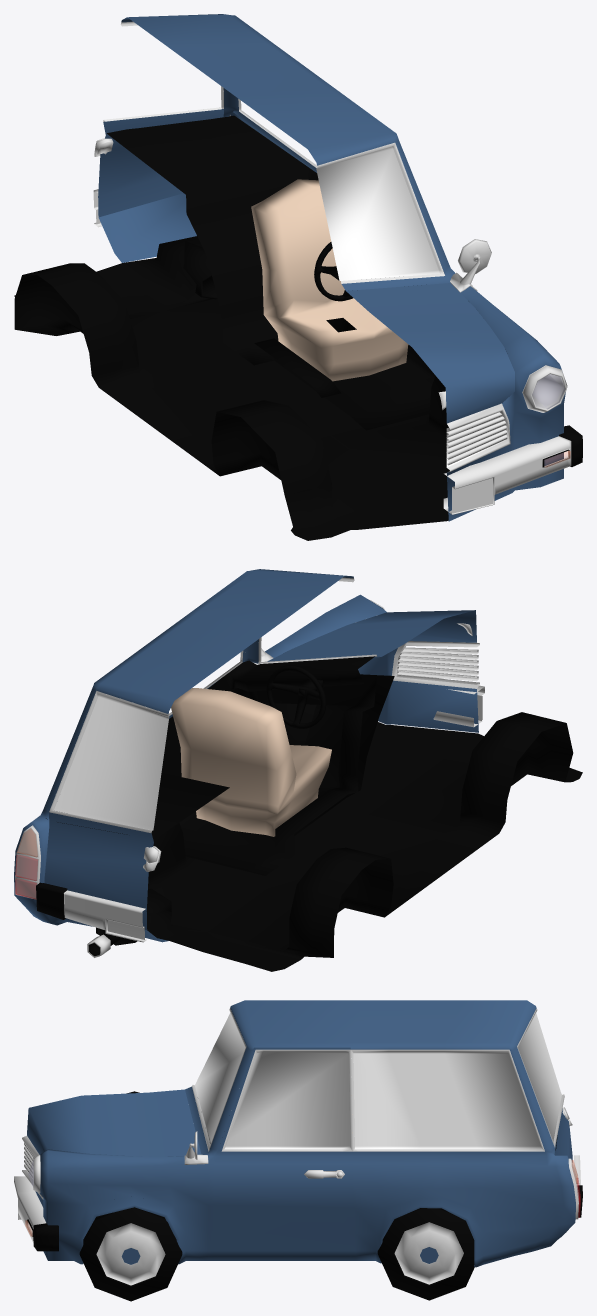
File: 89442db2-0201-4830-bda7-2f0d275e6abe.glb
3 views of the same model, one above another, from view 1: azimuth 30°, elevation 25°; view 2: azimuth 150°, elevation 25°; view 3: azimuth 270°, elevation 25° (orthographic). The views are drawn at different scales.
Visible parts, largest first — view 1: bottom, chasis, interior, seat, motor, door back, bomper front, radiadotr, mirror, smoke, plate fornt, light front; view 2: bottom, chasis, door back, interior, seat, motor, bumper back, radiadotr, sterring wheel, light back, smoke, bomper front; view 3: chasis, door side, motor, wheels, wheels.001, door back, bomper front, mirror.
Boxes of the visible parts, <box> form: bottom: <box>14,236,449,540</box>; chasis: <box>98,14,567,521</box>; interior: <box>107,115,435,430</box>; seat: <box>251,179,408,381</box>; motor: <box>346,283,514,423</box>; door back: <box>98,21,223,217</box>; bomper front: <box>443,425,582,514</box>; radiadotr: <box>446,412,507,465</box>; mirror: <box>450,239,491,292</box>; smoke: <box>183,241,217,299</box>; plate fornt: <box>452,478,492,513</box>; light front: <box>532,374,564,409</box>; bottom: <box>147,703,582,971</box>; chasis: <box>14,569,479,942</box>; door back: <box>44,691,169,929</box>; interior: <box>46,656,394,875</box>; seat: <box>171,688,331,836</box>; motor: <box>267,610,476,661</box>; bumper back: <box>36,882,146,942</box>; radiadotr: <box>396,647,478,681</box>; sterring wheel: <box>266,665,326,728</box>; light back: <box>15,829,37,899</box>; smoke: <box>87,888,171,957</box>; bomper front: <box>399,674,484,727</box>; chasis: <box>22,1000,578,1267</box>; door side: <box>214,1047,355,1250</box>; motor: <box>27,1089,201,1156</box>; wheels: <box>79,1207,182,1301</box>; wheels.001: <box>377,1208,474,1300</box>; door back: <box>517,1008,572,1162</box>; bomper front: <box>14,1176,58,1251</box>; mirror: <box>184,1131,208,1164</box>.
Size of the model in its own units: 1.87 by 1.89 by 3.96.
